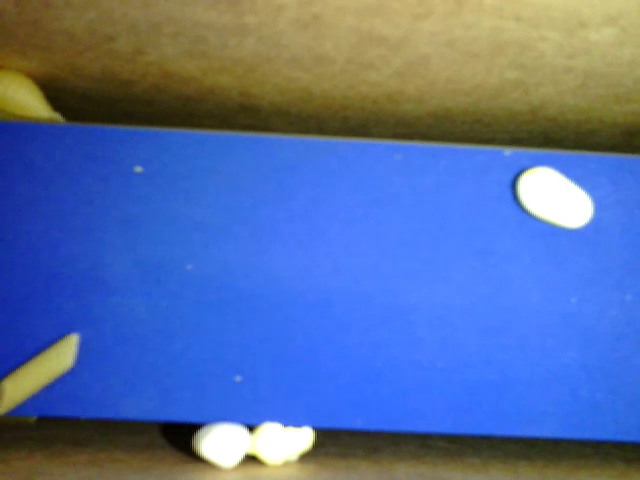penne: (4, 331, 83, 412)
shell: (2, 68, 71, 126)
